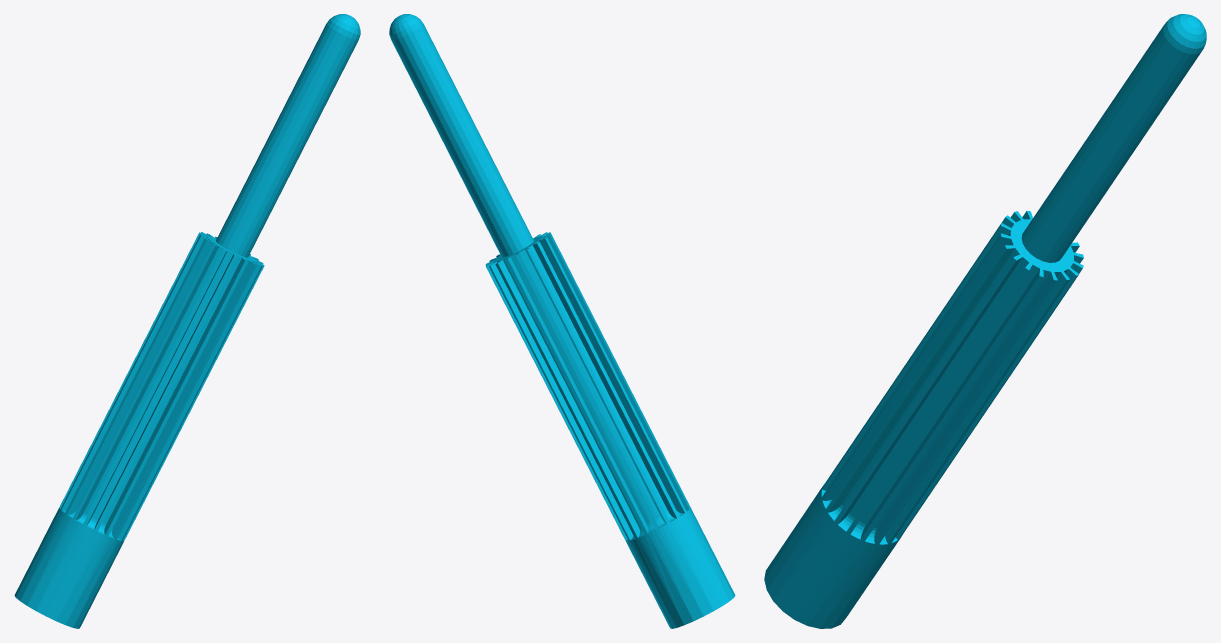
Rendered from tube-stick.glb.
The picture shows the model from 3 angles, left to right: view 1: azimuth 30°, elevation 25°; view 2: azimuth 150°, elevation 25°; view 3: azimuth 330°, elevation 25°; orthographic projection. The views are drawn at different scales.
Parts seen in each view (by area): view 1: tube分须棒; view 2: tube分须棒; view 3: tube分须棒.
Part boxes in pixels (bbox=[...]): tube分须棒: bbox=[14, 14, 360, 628]; tube分须棒: bbox=[389, 14, 735, 628]; tube分须棒: bbox=[764, 14, 1206, 628].
Bounding box in the file's own units: 66.61 × 102 × 12.5.
